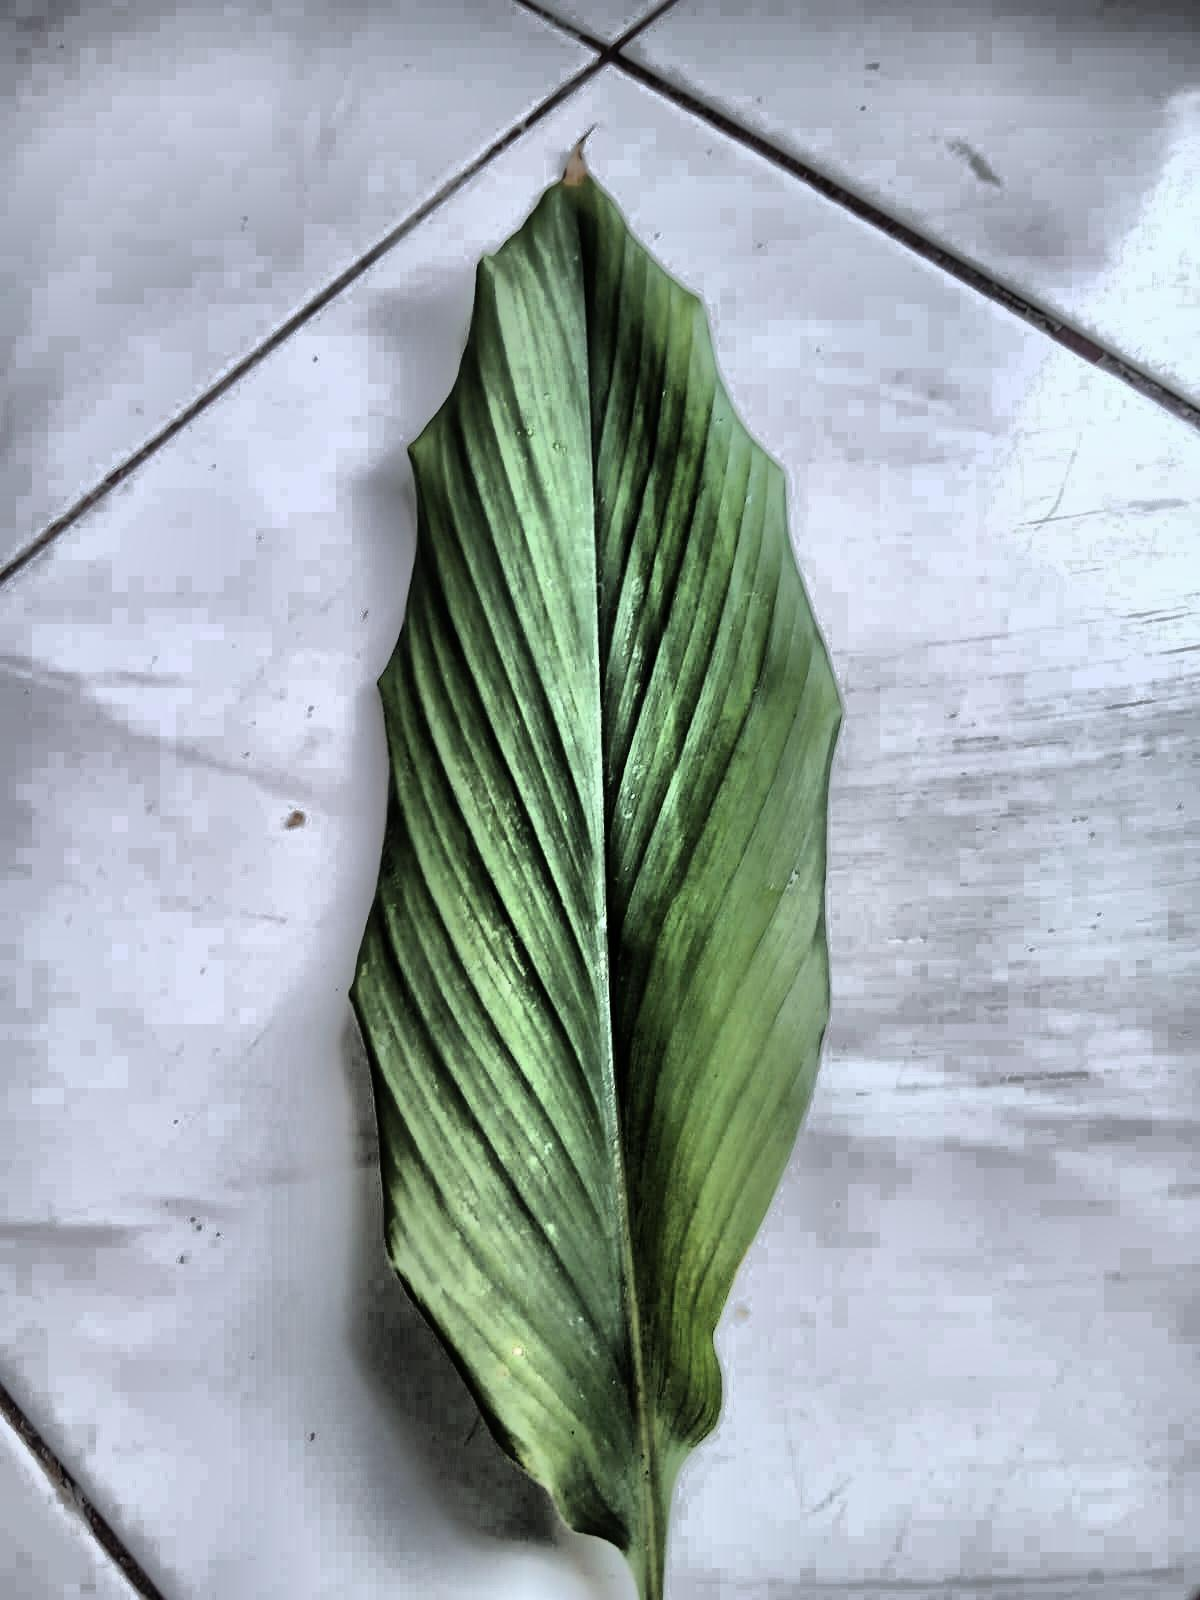daun kunyit: (352, 152, 839, 1599)
